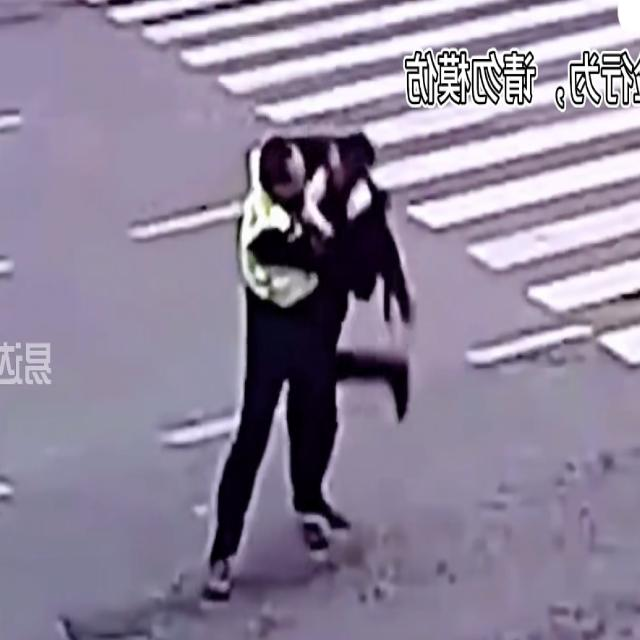fight: (232, 126, 394, 362)
